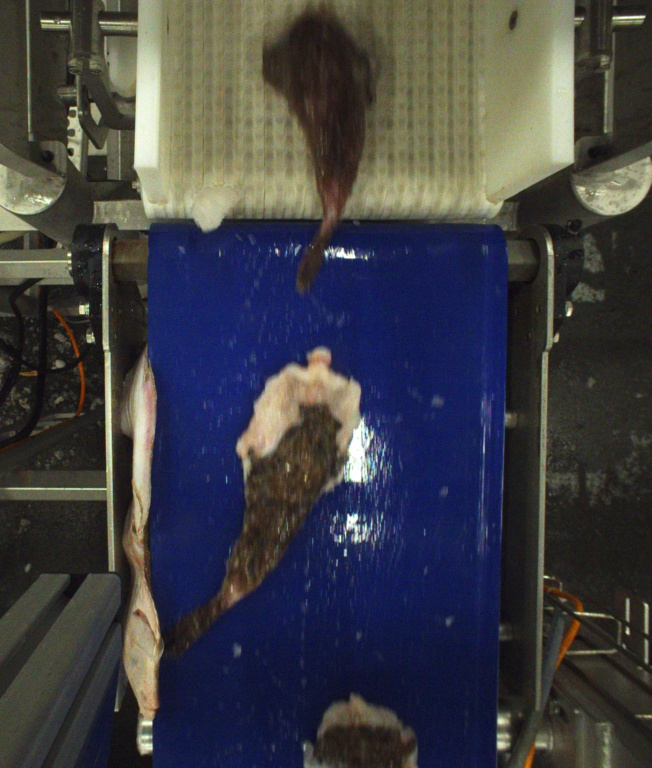ANF: (176, 352, 361, 643)
